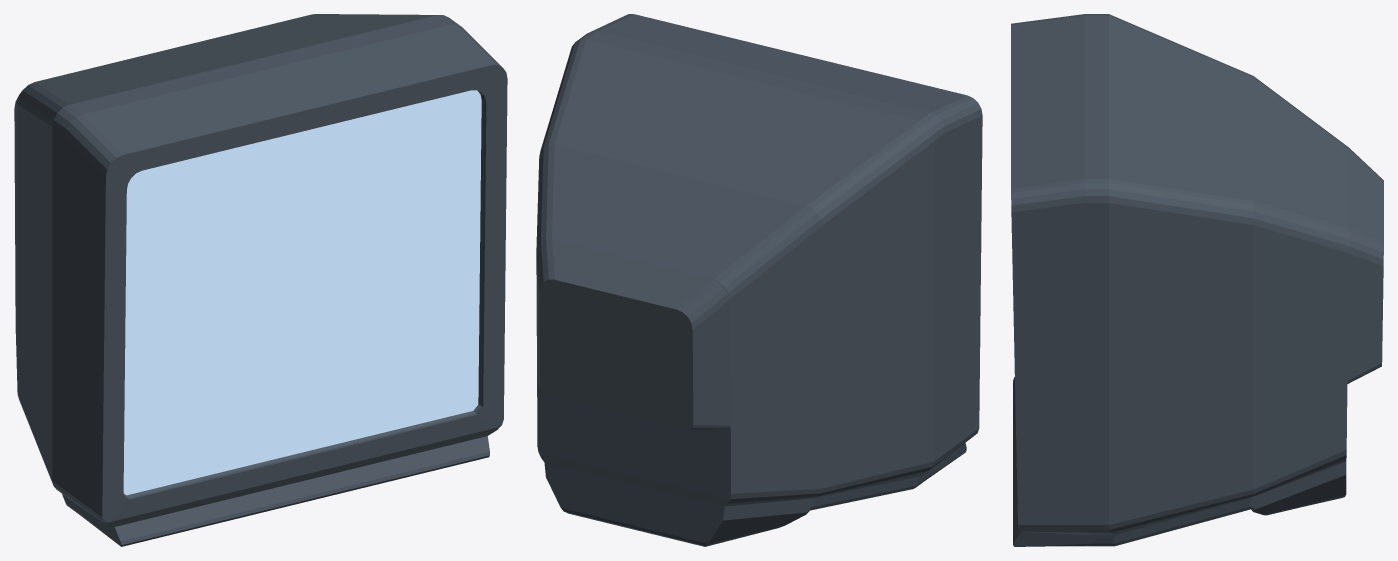
File: CRT_TV.fbx
The picture shows the model from 3 angles, left to right: view 1: azimuth 30°, elevation 25°; view 2: azimuth 150°, elevation 25°; view 3: azimuth 270°, elevation 25°; orthographic projection. The views are drawn at different scales.
Parts seen in each view (by area): view 1: Cube; view 2: Cube; view 3: Cube.
Part boxes in pixels (<box>): Cube: <box>14,14,507,546</box>; Cube: <box>536,14,982,546</box>; Cube: <box>1011,14,1383,546</box>.
Size of the model in its own units: 34.92 by 33.69 by 30.83.
